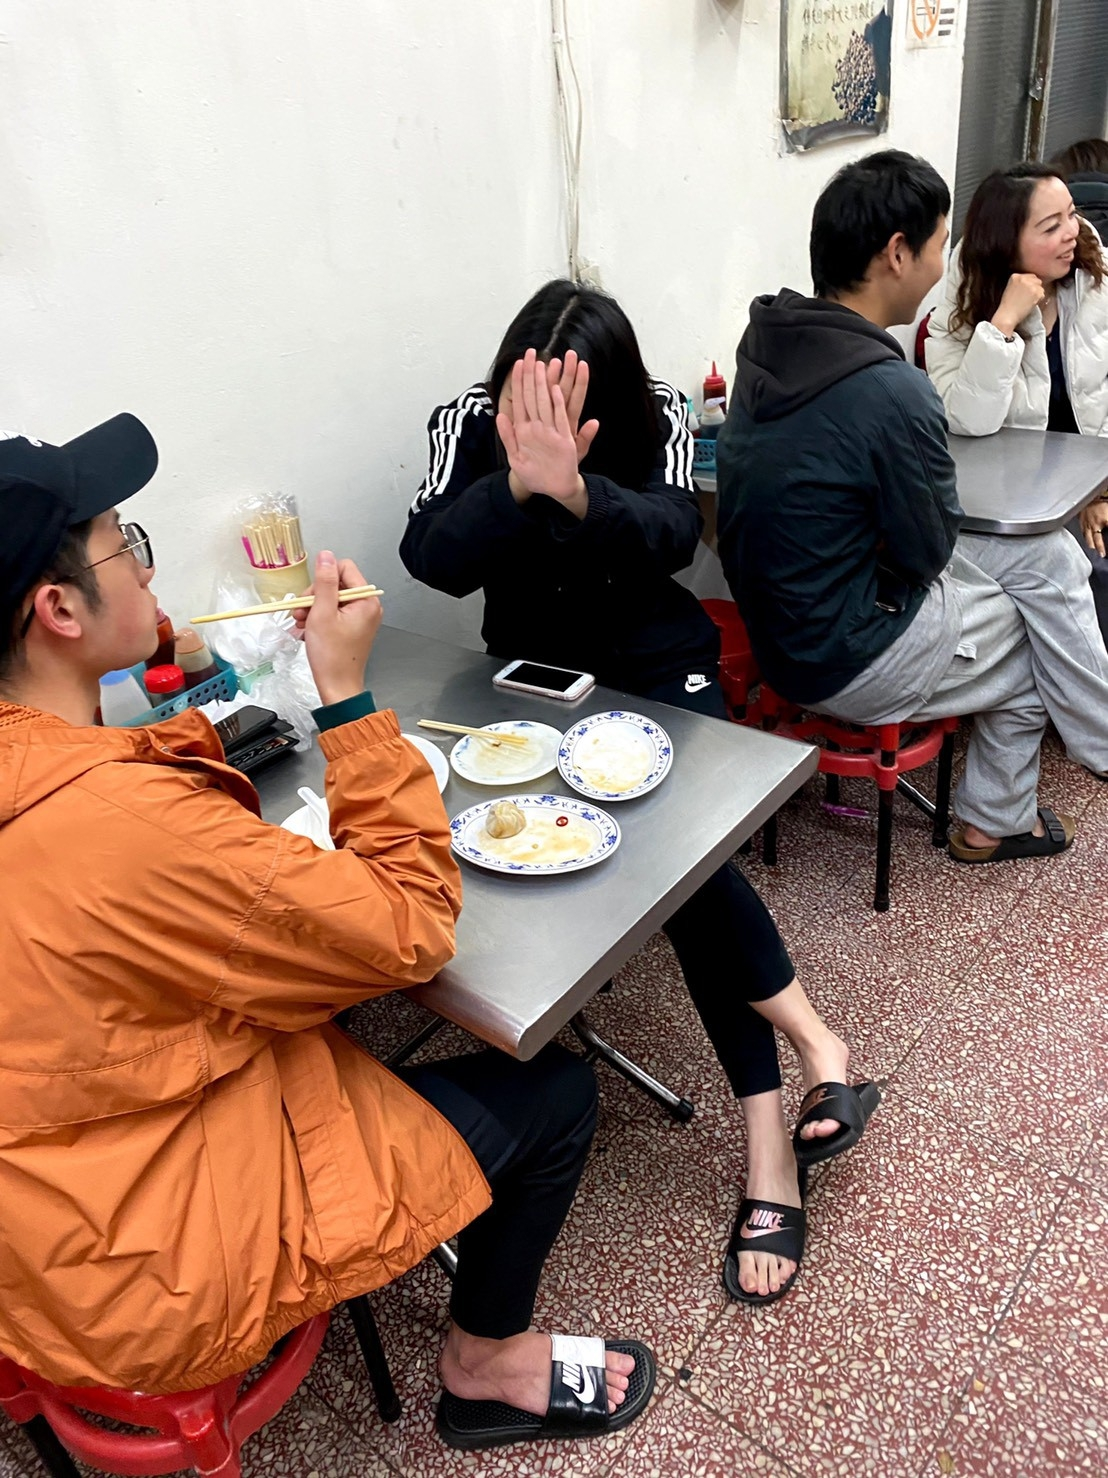people: (2, 419, 319, 1376), (778, 143, 988, 726), (476, 278, 719, 714), (947, 162, 1108, 440)
